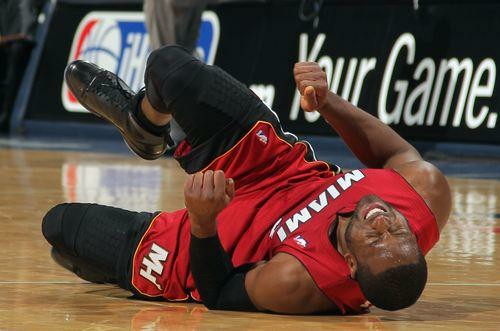fall: (31, 24, 466, 331)
